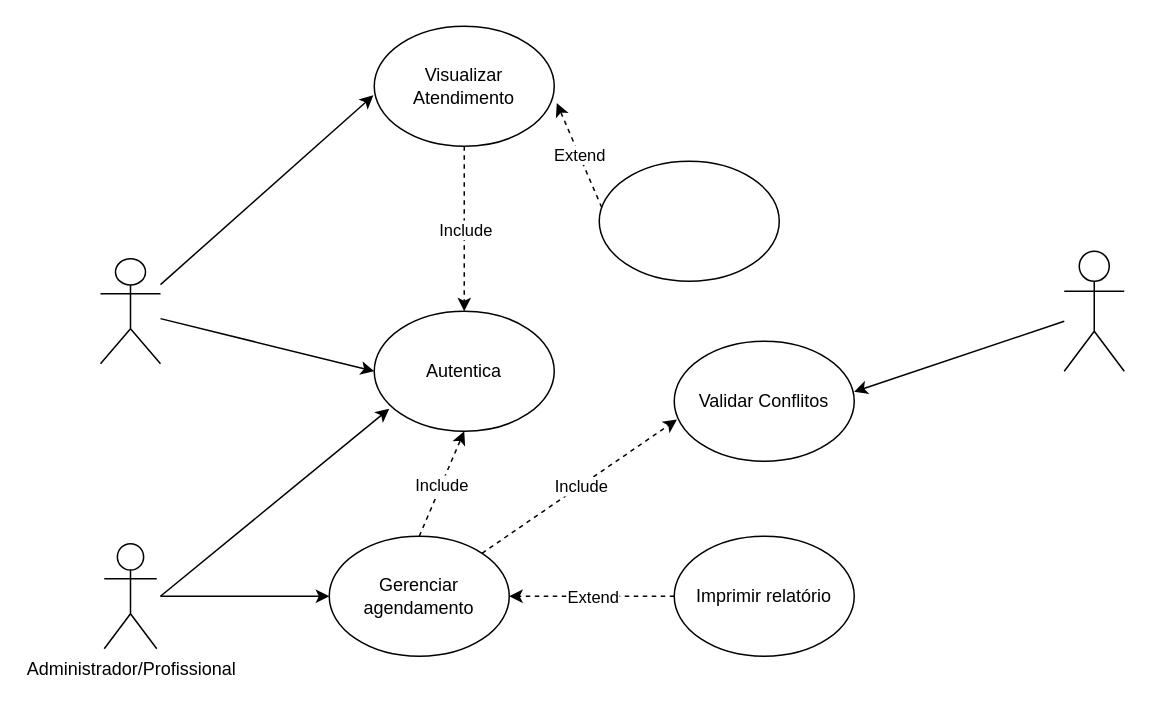
Image size: 1152x707. Some labels were removed from this diagram. The centre of each missing label's shape, as x and y in pixels:
"Cliente" belongs at point (129, 310).
"Marcar atendimento" belongs at point (688, 220).
"Sistema" belongs at point (1093, 310).
